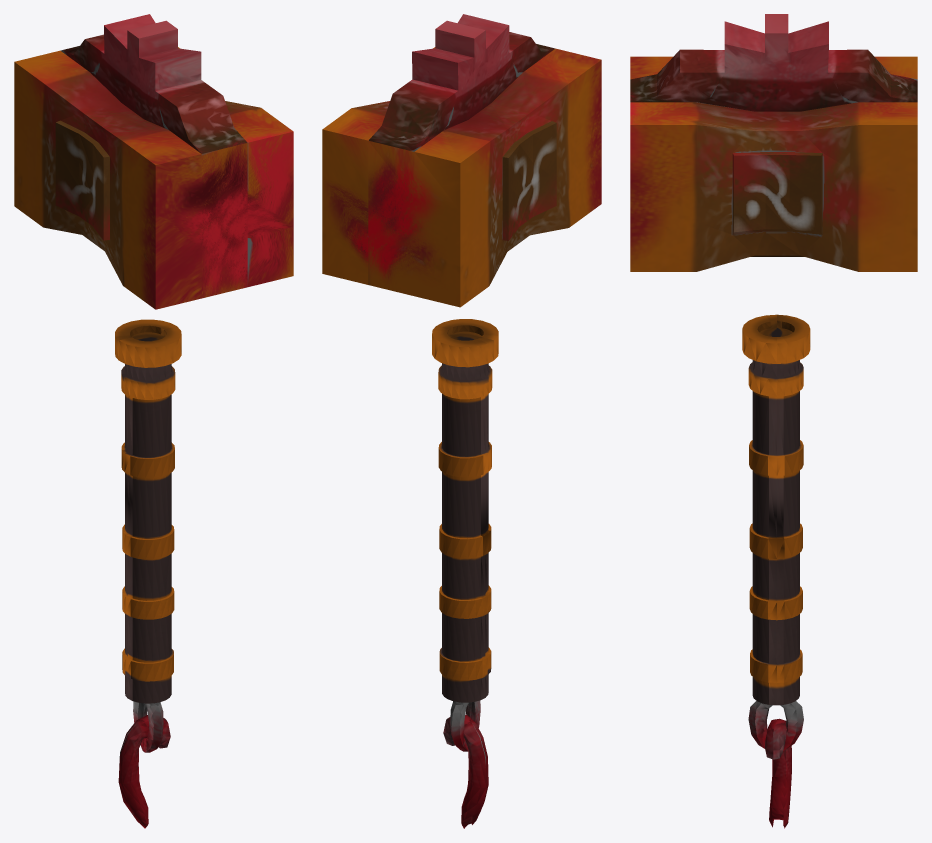
The model's file is hammer_test.obj.
3 views of the same model, side by side, from view 1: azimuth 30°, elevation 25°; view 2: azimuth 150°, elevation 25°; view 3: azimuth 270°, elevation 25° (orthographic).
Visible parts, largest first — view 1: Hammer.002; view 2: Hammer.002; view 3: Hammer.002.
Boxes of the visible parts, <box> form: Hammer.002: <box>14,14,293,828</box>; Hammer.002: <box>322,14,601,828</box>; Hammer.002: <box>630,14,917,828</box>.
Size of the model in its own units: 1.05 by 5.51 by 1.77.
Materials: 1 (1 with a texture image).
